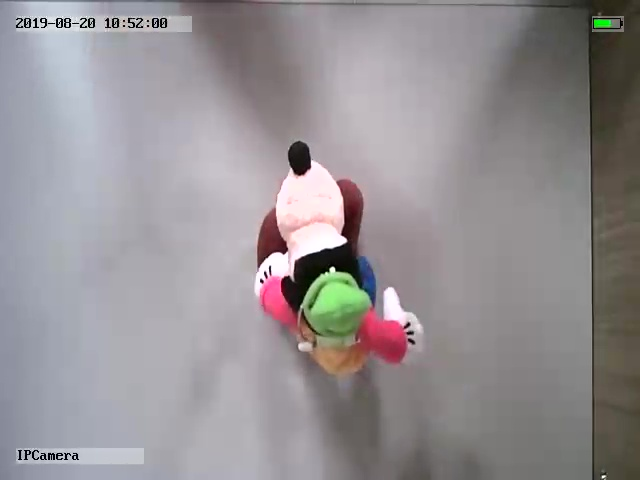goofy: (252, 141, 426, 375)
